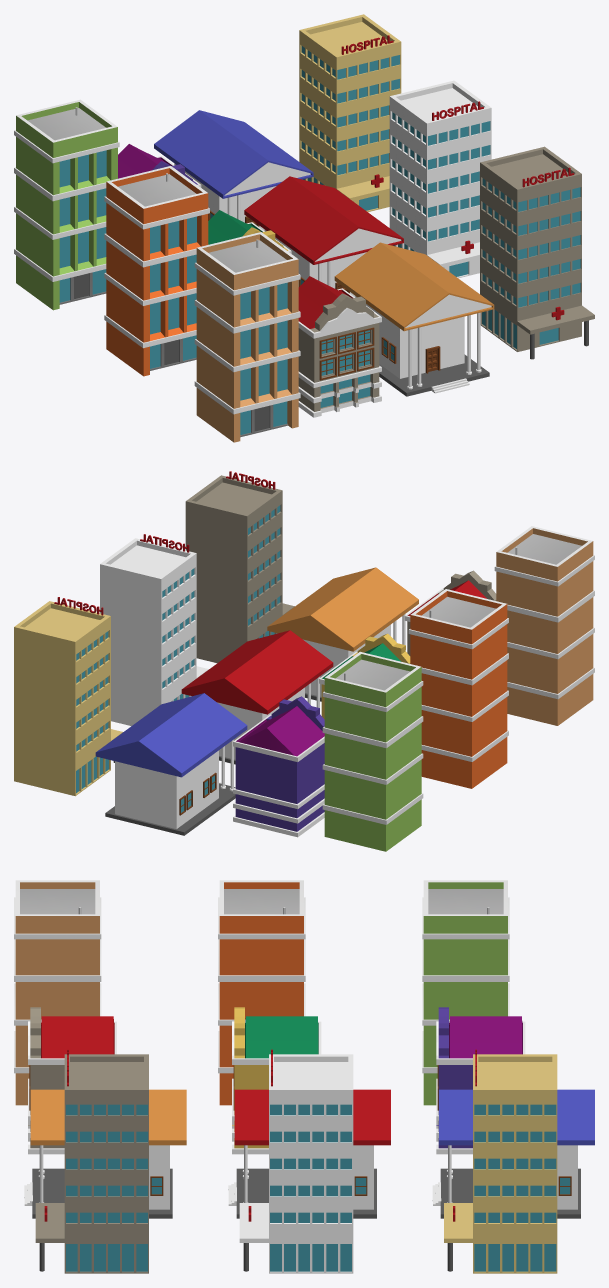
Rendered from FBX_MasEdificios.fbx.
3 renders of one model, top to bottom at view 1: azimuth 30°, elevation 25°; view 2: azimuth 150°, elevation 25°; view 3: azimuth 270°, elevation 25°, orthographic. The views are drawn at different scales.
Visible parts, largest first — view 1: Box001, Box019, Box020, Box023, Box025, Box022, Box018, Object, Box021, Box024, Object001, Object002; view 2: Box023, Box025, Box020, Box001, Box019, Box022, Box024, Object002, Box021, Box018, Object, Object001; view 3: Box022, Box019, Box025, Box023, Box020, Box001, Box018, Box021, Box024, Object002, Object001, Object.
Part boxes in pixels (x1,y1,x2,y2): Box001: (194, 232, 300, 442); Box019: (480, 146, 594, 359); Box020: (104, 166, 209, 376); Box023: (14, 99, 119, 310); Box025: (299, 14, 401, 211); Box022: (389, 80, 491, 278); Box018: (334, 242, 494, 396); Object: (298, 276, 381, 417); Box021: (244, 176, 403, 296); Box024: (154, 110, 313, 230); Object001: (208, 210, 291, 253); Object002: (118, 144, 201, 187); Box023: (322, 651, 423, 851); Box025: (14, 597, 122, 796); Box020: (408, 589, 508, 788); Box001: (494, 526, 594, 725); Box019: (185, 471, 294, 663); Box022: (100, 534, 208, 725); Box024: (95, 693, 247, 835); Object002: (233, 696, 324, 837); Box021: (181, 630, 333, 764); Box018: (267, 567, 418, 701); Object: (404, 570, 496, 655); Object001: (319, 633, 410, 719); Box022: (239, 1049, 353, 1273); Box019: (35, 1049, 148, 1273); Box025: (444, 1049, 557, 1273); Box023: (422, 880, 509, 1105); Box020: (218, 880, 305, 1105); Box001: (14, 880, 101, 1105); Box018: (24, 1089, 186, 1218); Box021: (228, 1089, 390, 1218); Box024: (432, 1089, 594, 1218); Object002: (436, 1007, 525, 1154); Object001: (232, 1007, 321, 1154); Object: (28, 1007, 116, 1154).
Bounding box in the file's own units: 2868 × 1286 × 3445.
